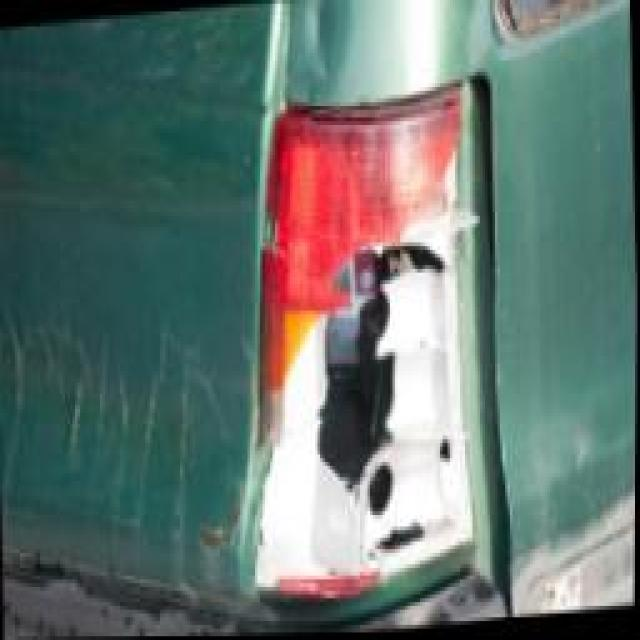Dickey: (0, 273, 258, 539)
Light: (240, 76, 499, 603)
